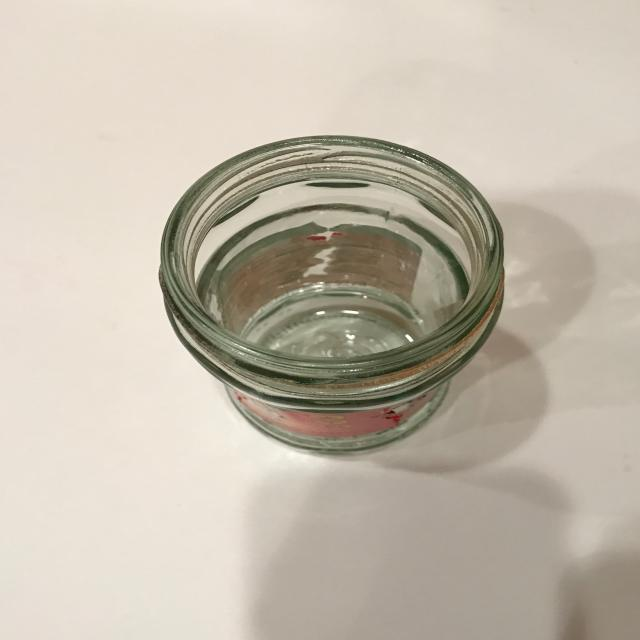glass: (158, 134, 507, 456)
